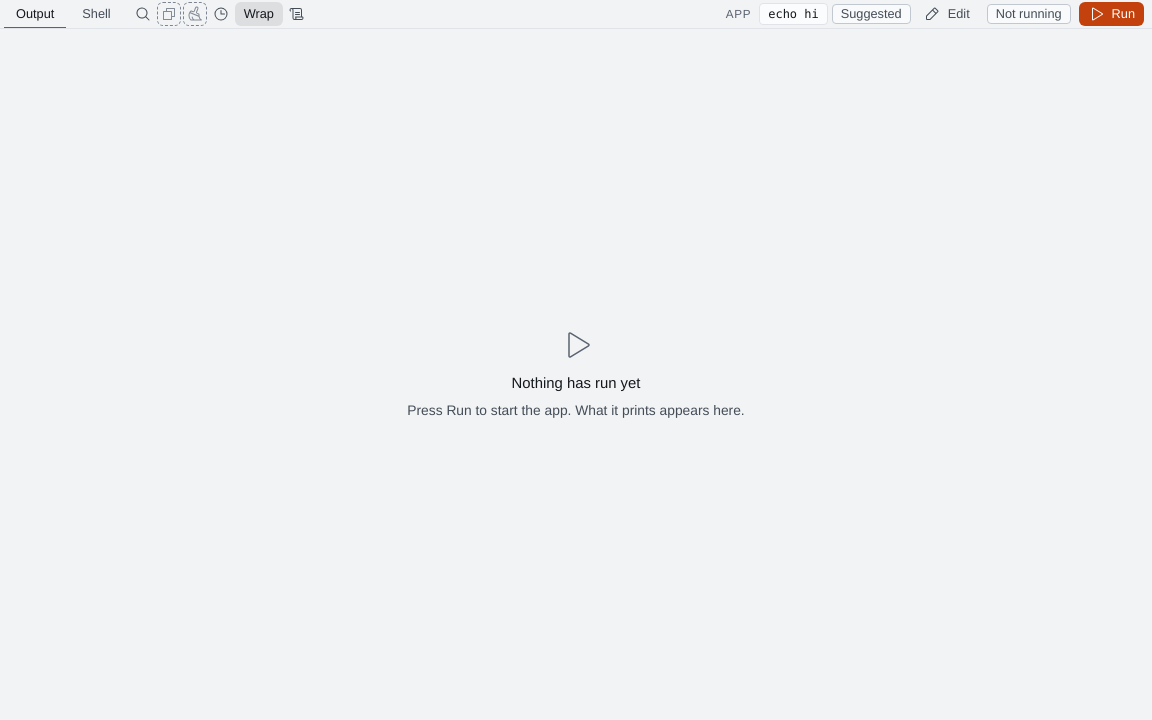
it: what the console says in the stream › says a program ended even when it was over before the start was answered
This screenshot has width=1152, height=720.
Expected: the text "Nothing has run yet" is shown, [512,372,640,392]
Click the button "Run" at [1111, 14], box [1079,2,1144,26]
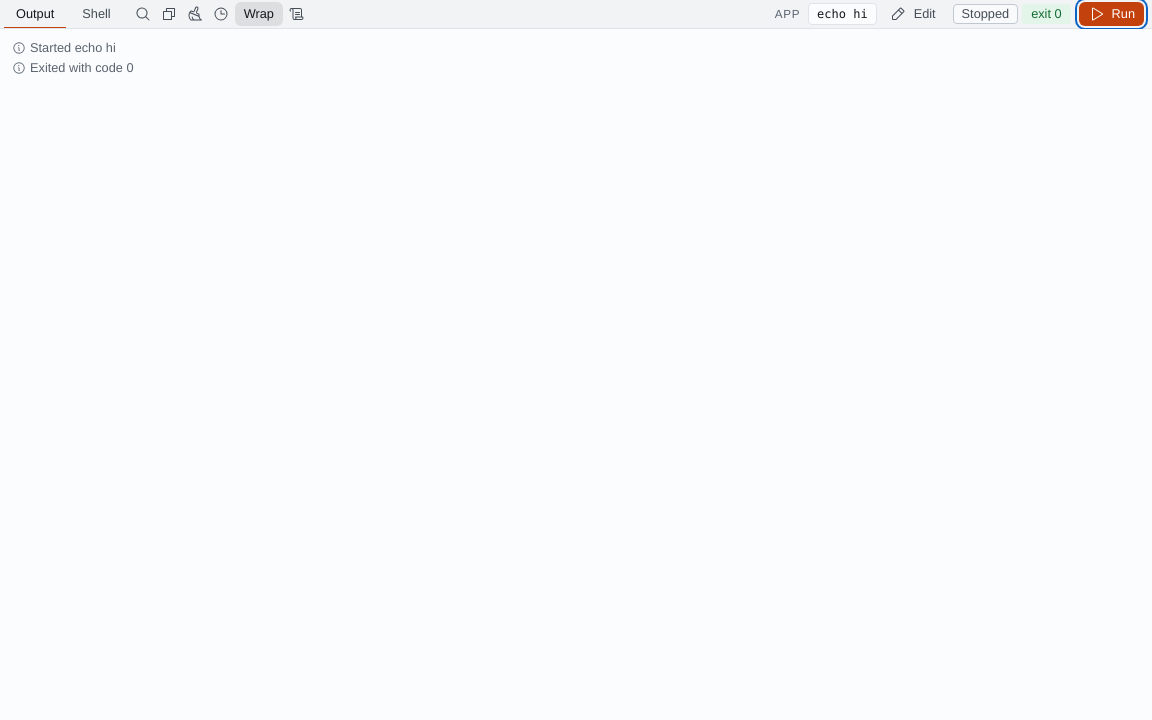
Now the text "Exited with code 0" is shown, box [30,59,134,77]
Now the text "Started echo hi" is shown, box [30,39,116,57]
